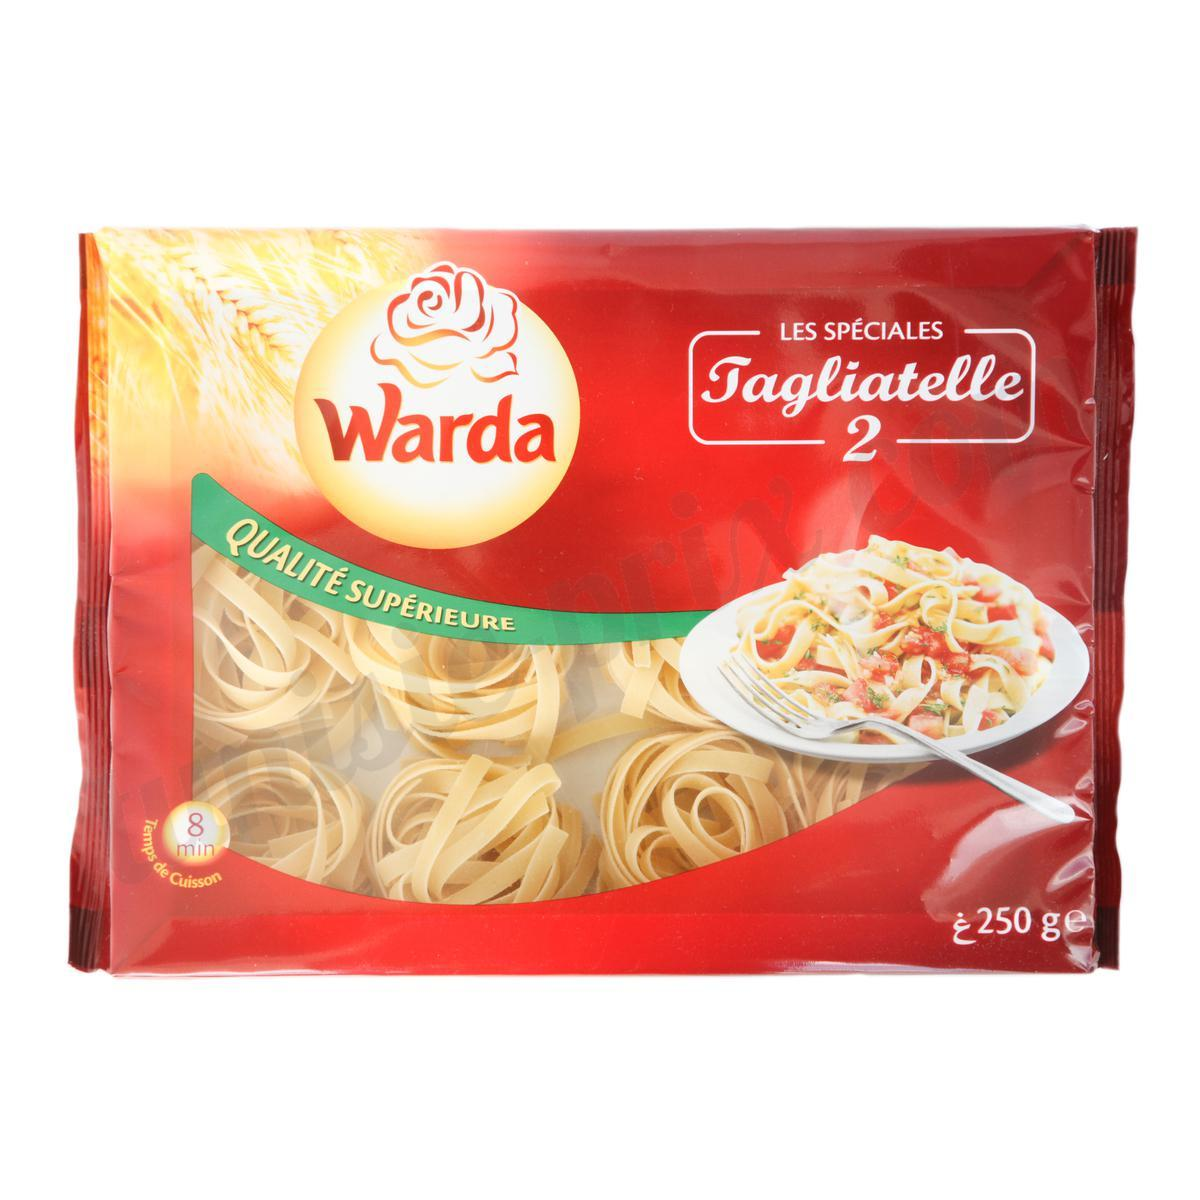Spaghetti: (90, 235, 1105, 975)
